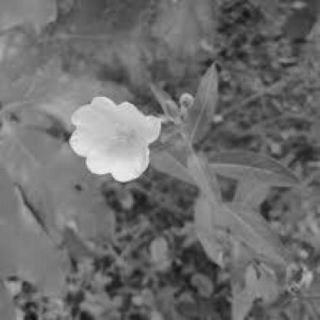other: (63, 90, 163, 178)
